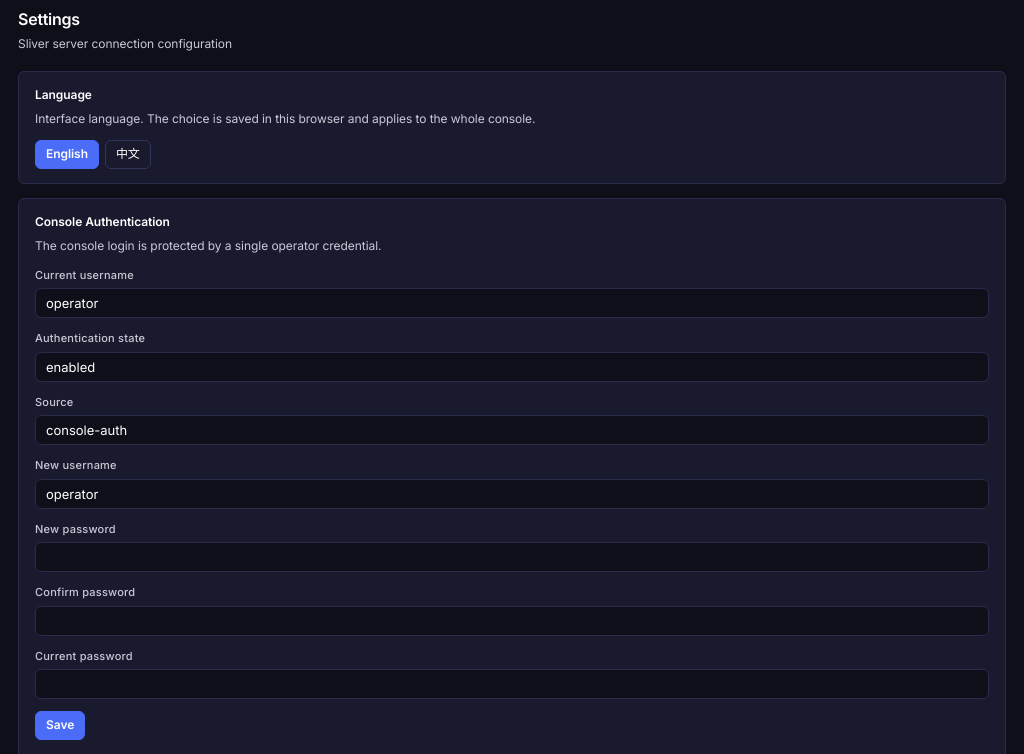
SettingsPage console authentication panel › surfaces a server-side rejection as an inline error
Type "longenough1" into the password field labelled "New password".
click(512, 557); type("longenough1")  # box [35, 542, 989, 572]
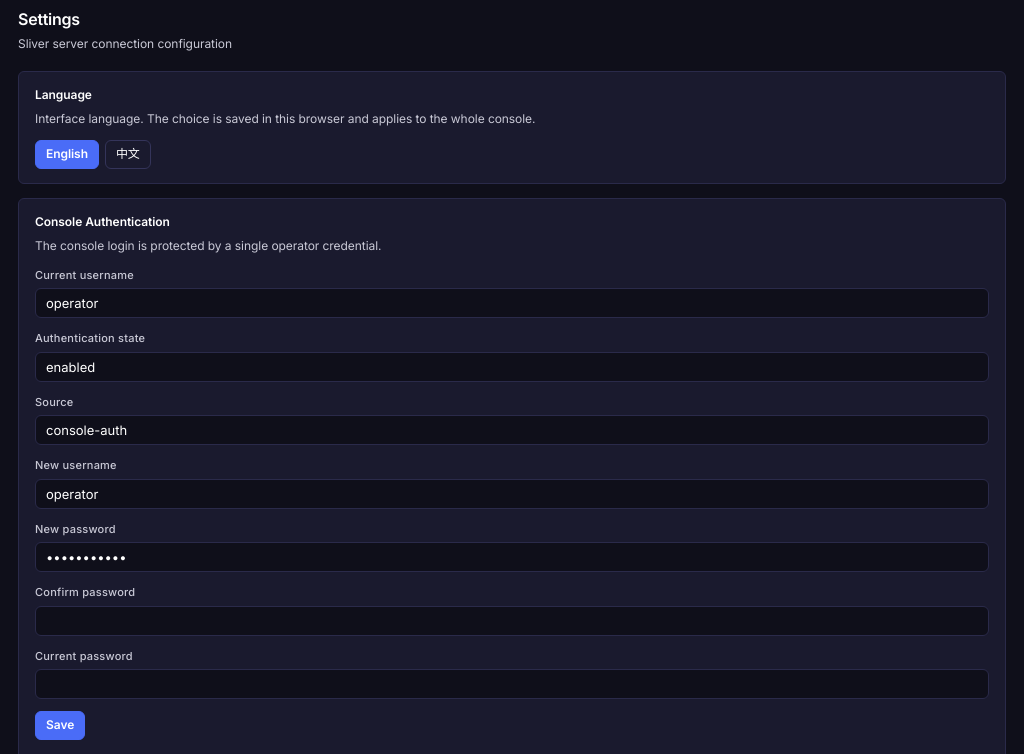
Type "longenough1" into the password field labelled "Confirm password".
click(512, 621); type("longenough1")  # box [35, 606, 989, 636]
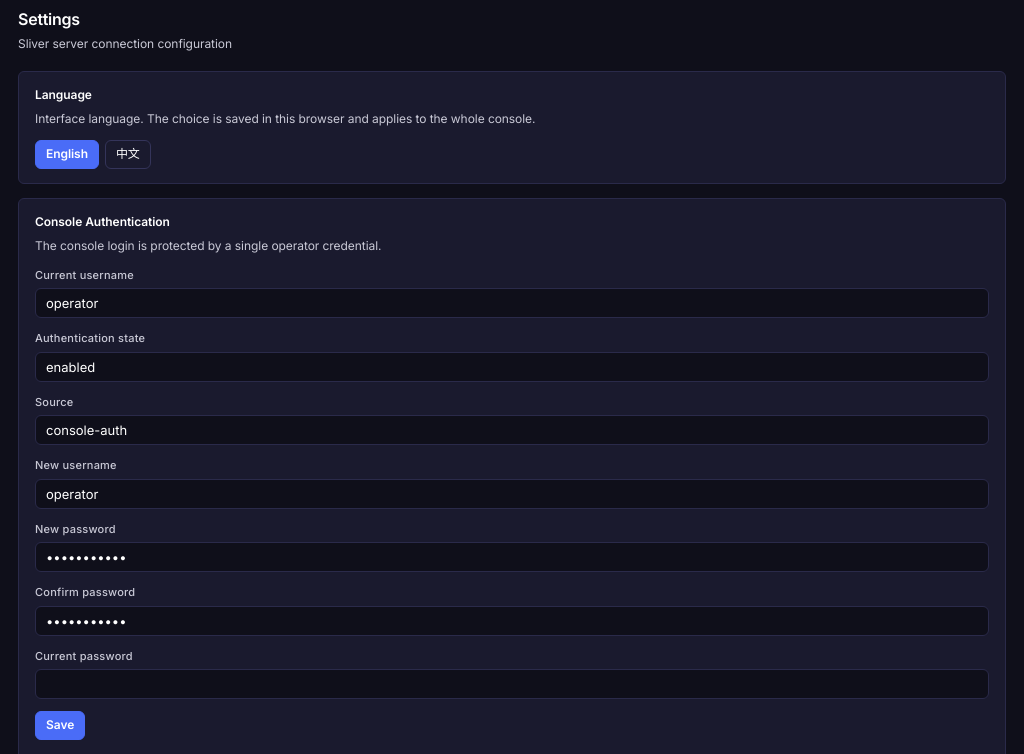
Type "wrong" into the password field labelled "Current password".
click(512, 684); type("wrong")  # box [35, 669, 989, 699]
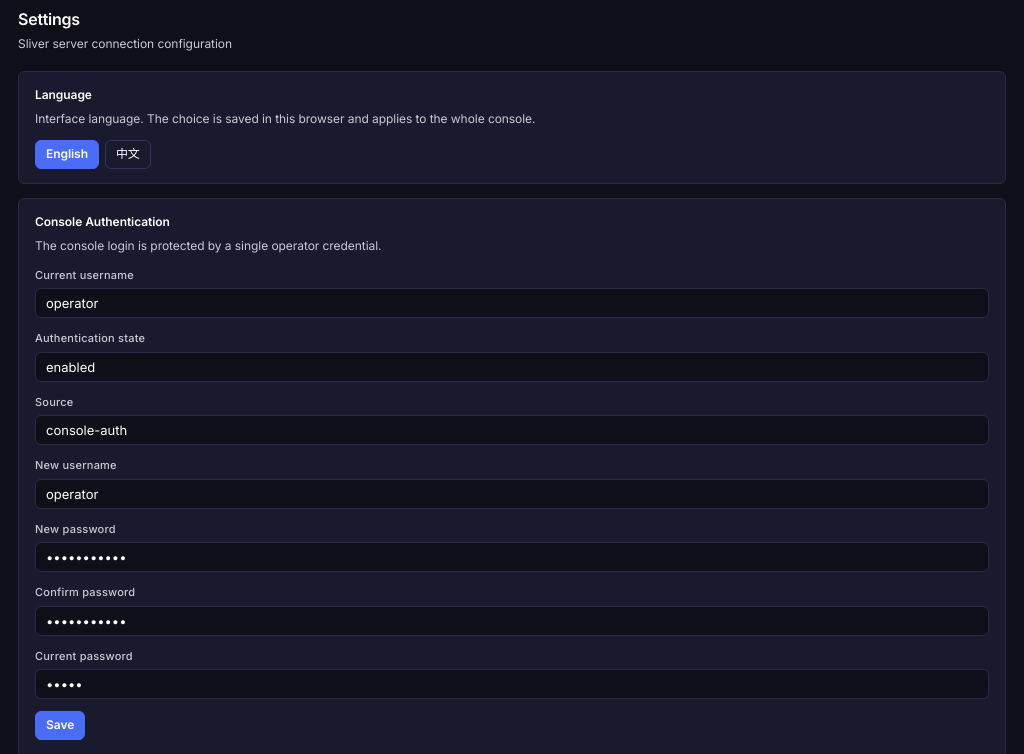
Click the button "Save".
click(60, 726)  # box [35, 711, 85, 740]
(page scrolled)
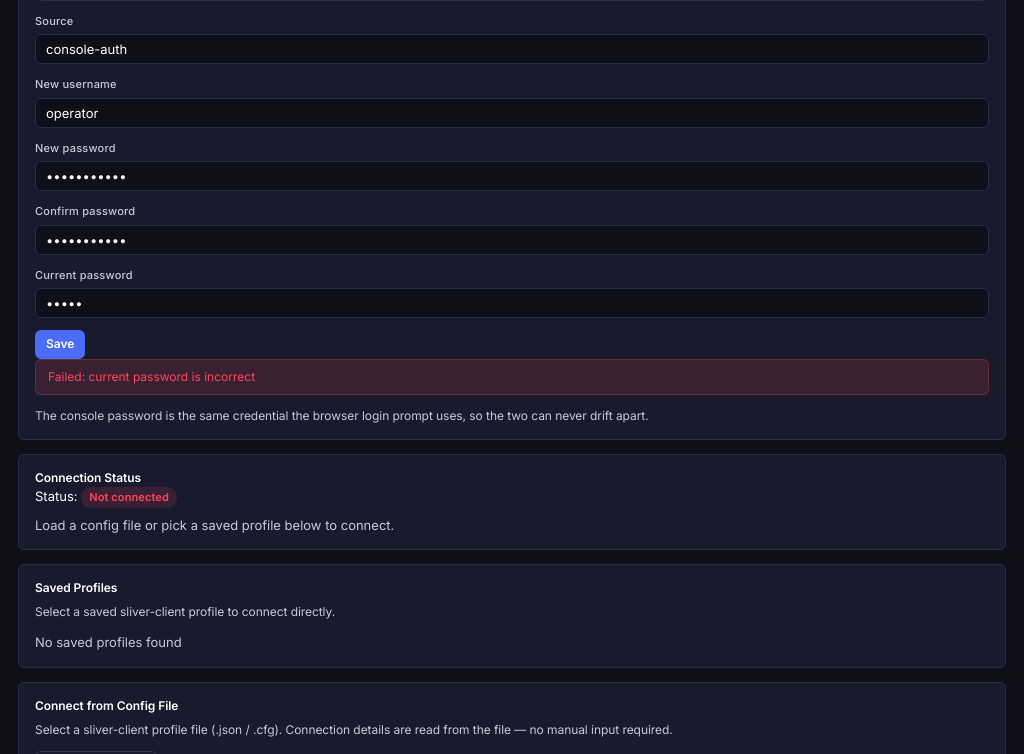
Expected: the text "Failed: current password is incorrect" is shown, [35, 359, 989, 395]
